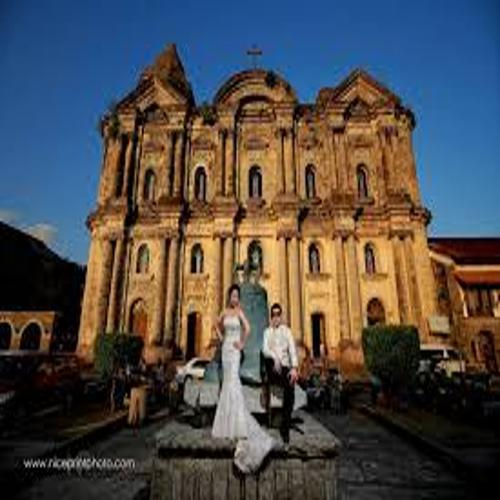Taal Basilica Church: (67, 34, 450, 390)
